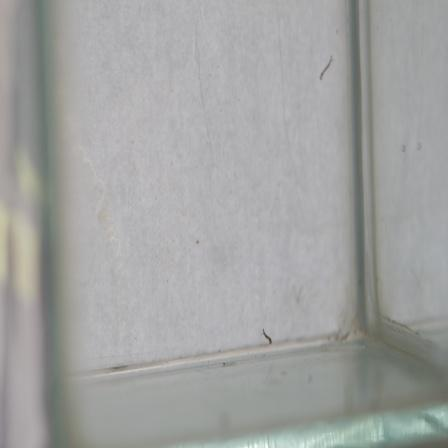Jentik-Nyamuk: (315, 50, 339, 86), (259, 324, 277, 347)
